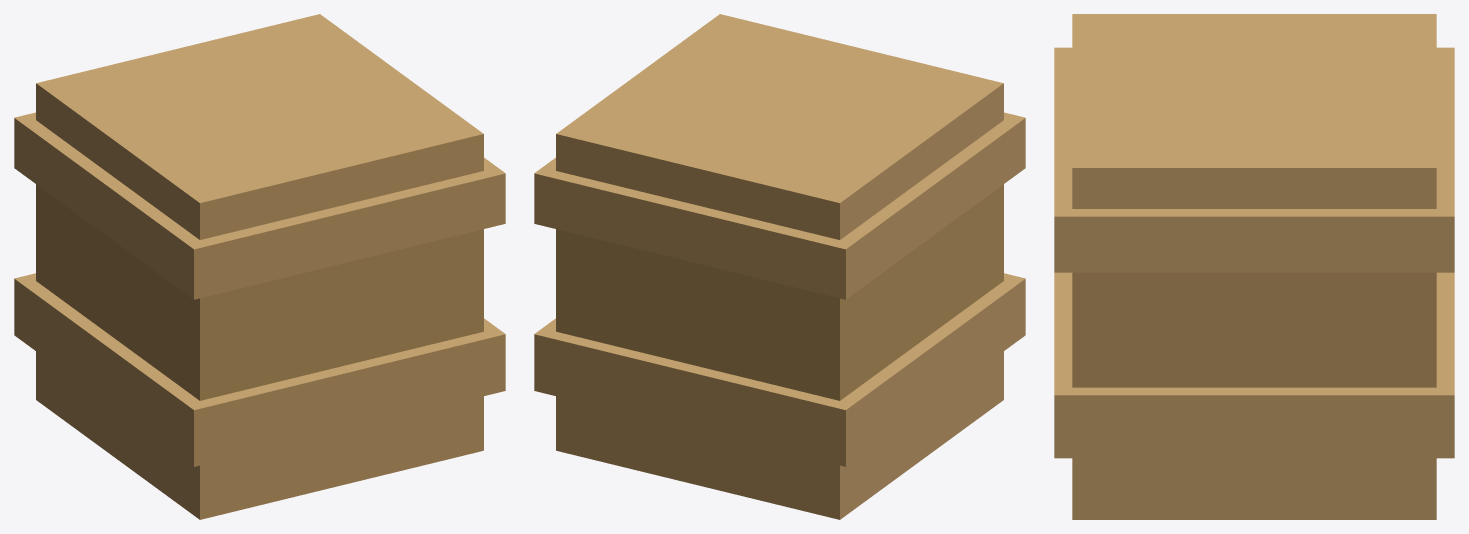
Rendered from ST_Env_PillarCap_01.fbx.
3 renders of one model, left to right at view 1: azimuth 30°, elevation 25°; view 2: azimuth 150°, elevation 25°; view 3: azimuth 270°, elevation 25°, orthographic. The views are drawn at different scales.
Visible parts, largest first — view 1: ST_Env_PillarCap_01; view 2: ST_Env_PillarCap_01; view 3: ST_Env_PillarCap_01.
Part boxes in pixels (x1=…): ST_Env_PillarCap_01: x1=14, y1=14, x2=505, y2=519; ST_Env_PillarCap_01: x1=534, y1=14, x2=1025, y2=519; ST_Env_PillarCap_01: x1=1054, y1=14, x2=1454, y2=519.
Bounding box in the file's own units: 1.21 × 1.17 × 1.21.
